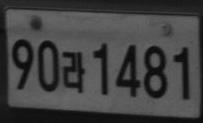0: (35, 39, 60, 92)
1: (170, 46, 196, 100), (89, 42, 114, 95)
4: (113, 43, 142, 97)
8: (142, 45, 168, 99)
9: (9, 37, 34, 90)
라: (61, 50, 86, 94)
